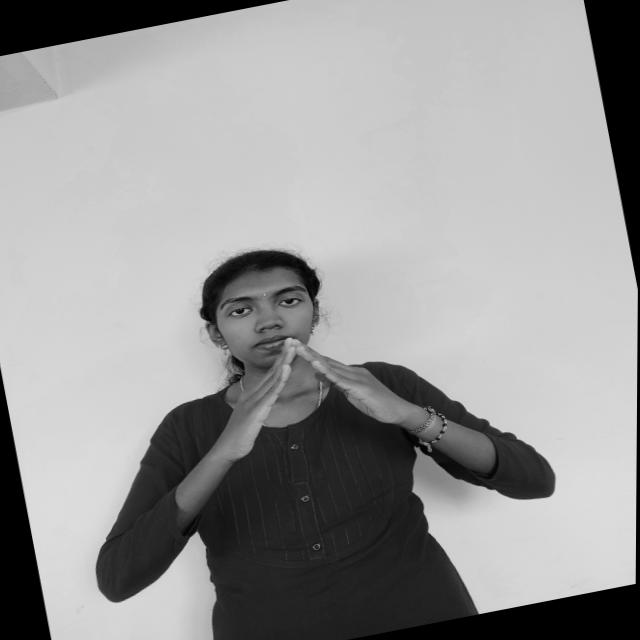Home: (186, 310, 419, 476)
